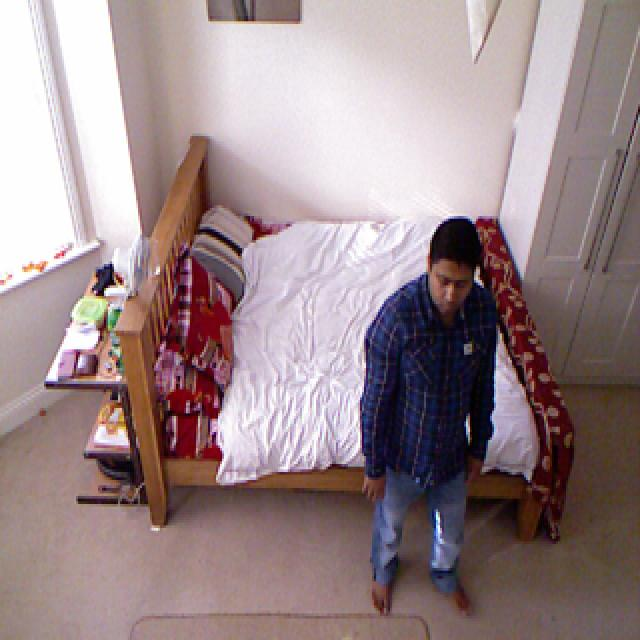standing: (360, 215, 504, 623)
